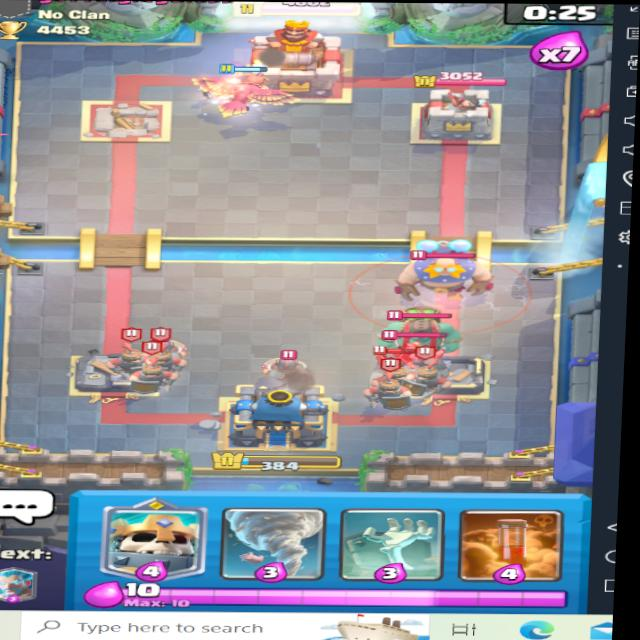Ebarbs: (257, 339, 322, 379)
Egiant: (394, 236, 497, 297)
Goblingiant: (385, 299, 462, 352)
Royalrecruits: (403, 348, 458, 399), (368, 365, 423, 408), (105, 333, 157, 376), (128, 352, 176, 391), (136, 350, 192, 377)
